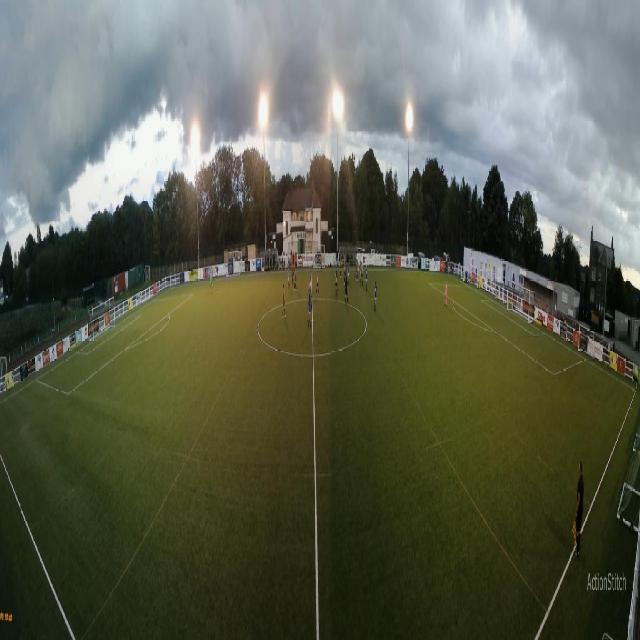ball: (216, 289, 218, 297)
player: (282, 282, 286, 319), (308, 293, 312, 329), (294, 264, 298, 294), (287, 264, 291, 291), (445, 276, 448, 311), (209, 271, 213, 295), (374, 281, 377, 313), (309, 266, 312, 295), (365, 265, 368, 294), (317, 268, 319, 296), (361, 261, 363, 289), (292, 262, 294, 289), (346, 276, 348, 303), (335, 269, 337, 295), (360, 258, 362, 284), (357, 256, 359, 282), (355, 258, 357, 282), (348, 261, 350, 285), (340, 255, 342, 279), (320, 253, 322, 274), (344, 261, 345, 286), (345, 265, 347, 276)
